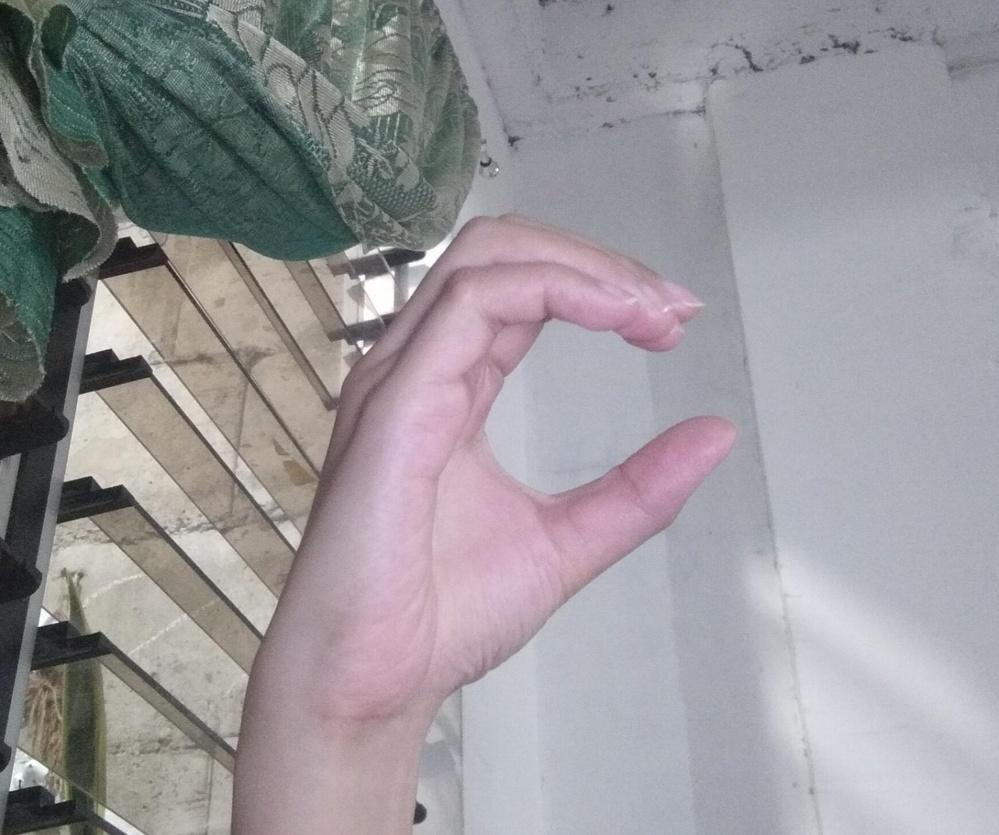c: (238, 209, 740, 715)
